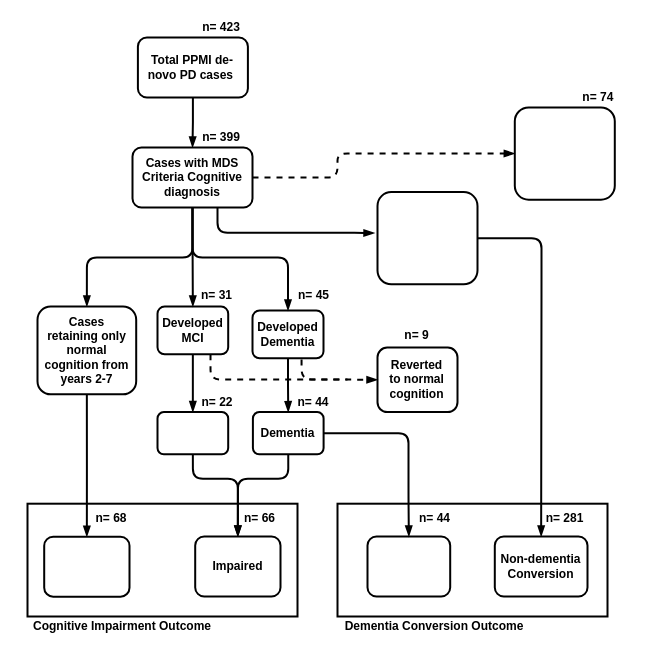
Image size: 660x653. Some labels were removed from this diagram. The centre of each missing label's shape, as x and y in pixels:
Cases with at least five longitudinal measures: point 427,238
Cases without MCI/Dementia and lacking multiple longitudinal outcomes: point 564,153
Dementia Conversion: point 408,566
MCI: point 192,433
Normal: point 86,566
